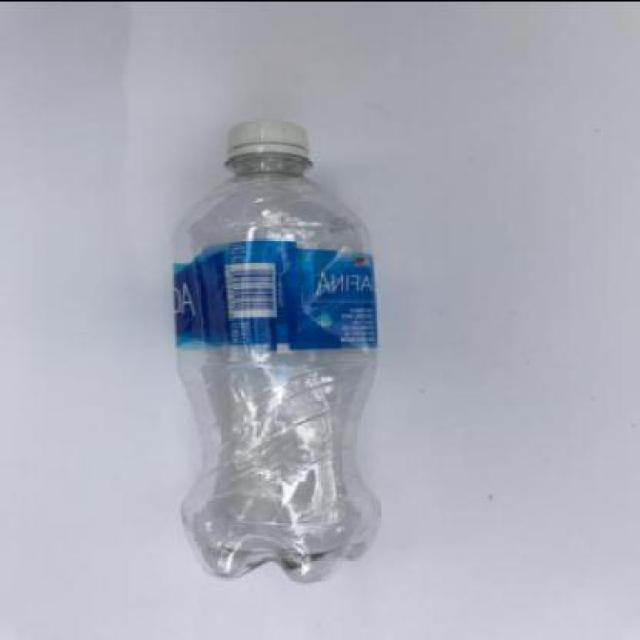PLASTIC: (174, 119, 383, 584), (172, 238, 382, 352), (227, 118, 316, 171)
